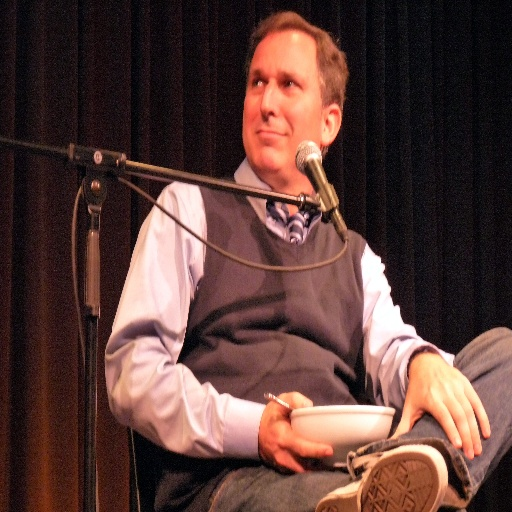hand: (385, 356, 495, 463), (256, 389, 334, 478)
